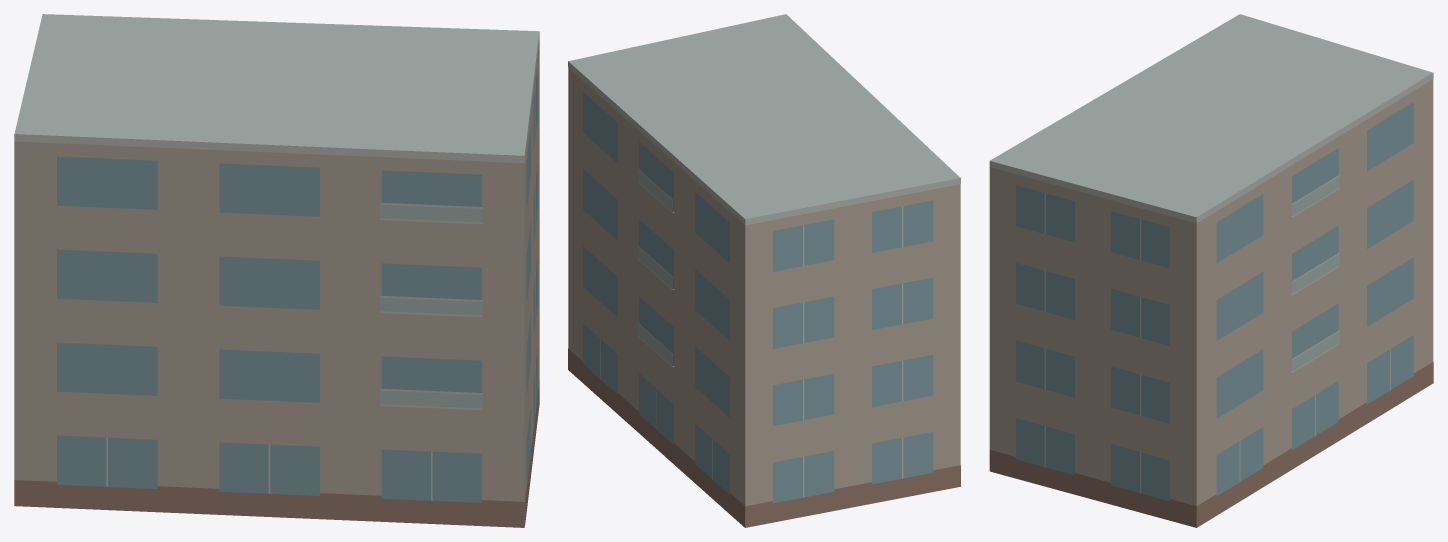
File: survey-upis-32844697.glb
3 renders of one model, left to right at view 1: azimuth 30°, elevation 25°; view 2: azimuth 150°, elevation 25°; view 3: azimuth 270°, elevation 25°, orthographic. The views are drawn at different scales.
Visible parts, largest first — view 1: survey-upis-32844697.tmp; view 2: survey-upis-32844697.tmp; view 3: survey-upis-32844697.tmp.
Boxes of the visible parts, x1,y1,x2,y2 form: survey-upis-32844697.tmp: [14, 14, 539, 527]; survey-upis-32844697.tmp: [568, 14, 960, 527]; survey-upis-32844697.tmp: [989, 14, 1433, 527].
Bounding box in the file's own units: 17.14 × 12.2 × 15.81.
